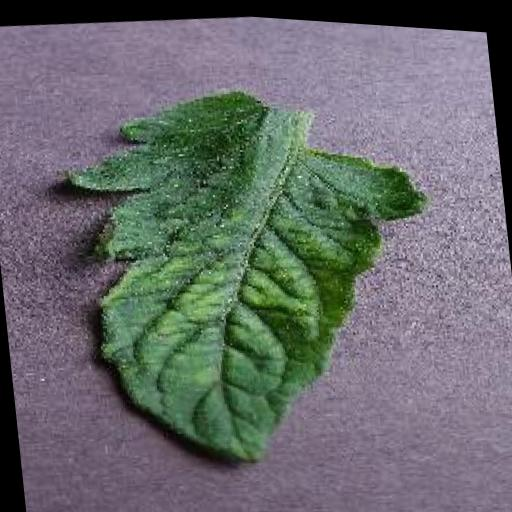Mosaic Virus: (60, 58, 454, 489)
